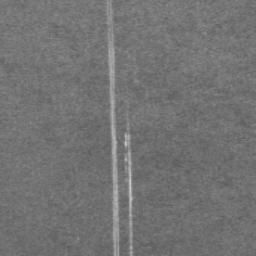Bright scratch: (107, 1, 119, 256), (125, 124, 133, 256)
